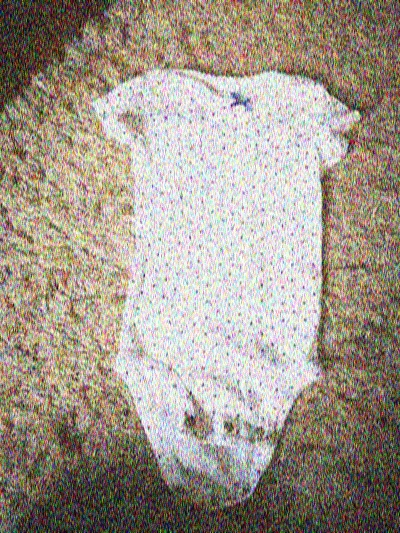Body: (83, 56, 370, 503)
